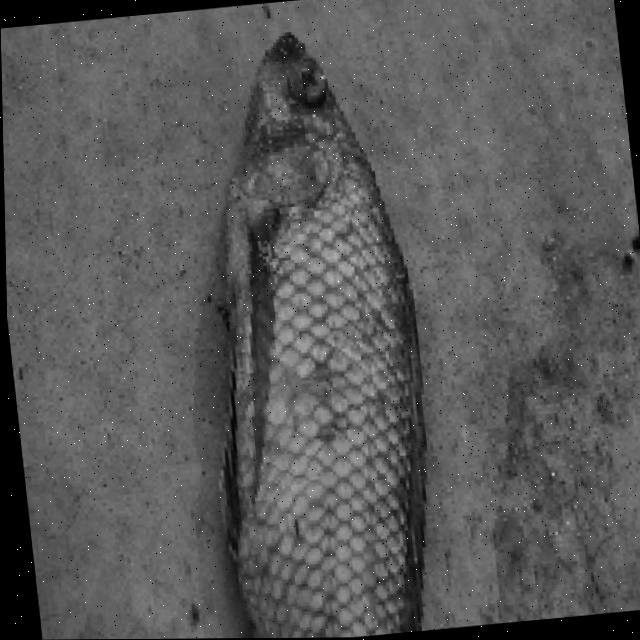Non-Fresh: (135, 8, 482, 639)
